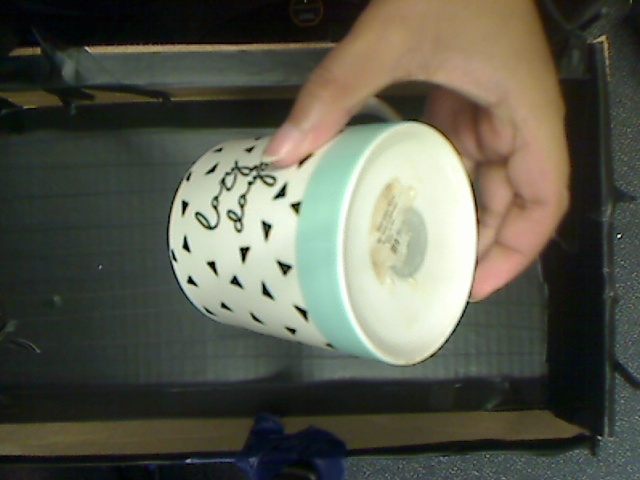mug: (154, 111, 510, 372)
